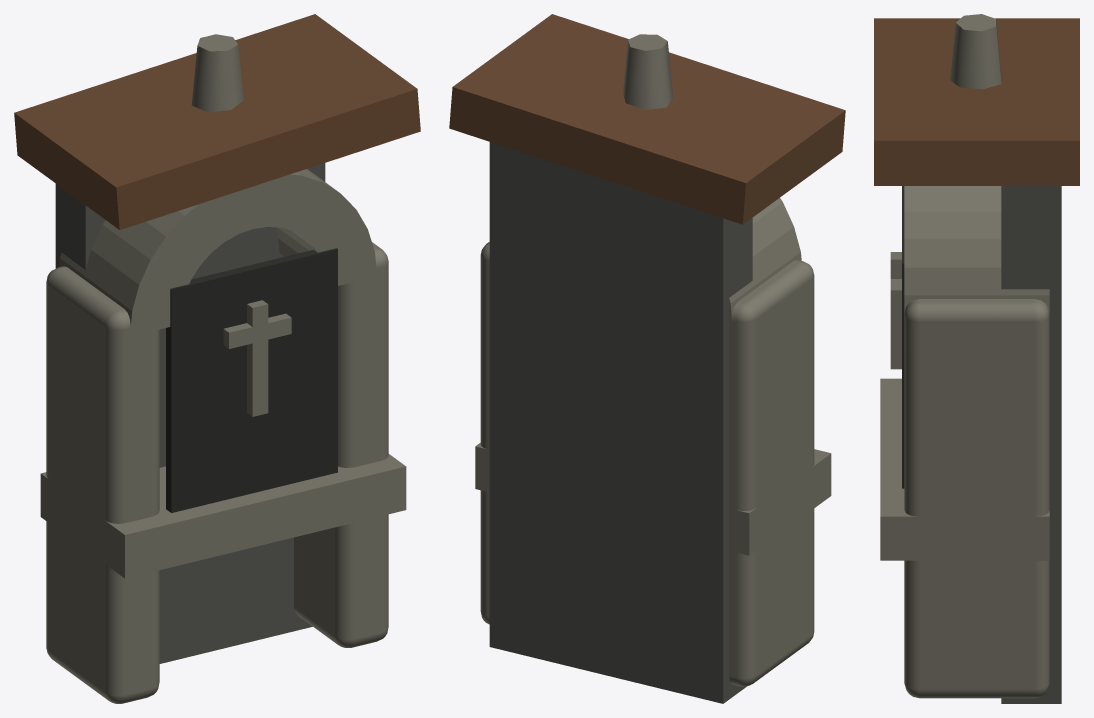
The model's file is sk_roadside_shrine.glb.
3 renders of one model, left to right at view 1: azimuth 30°, elevation 25°; view 2: azimuth 150°, elevation 25°; view 3: azimuth 270°, elevation 25°, orthographic. The views are drawn at different scales.
Visible parts, largest first — view 1: stone, wood; view 2: stone, wood; view 3: stone, wood.
Boxes of the visible parts, x1=… form: stone: x1=40, y1=34, x2=406, y2=703; wood: x1=14, y1=14, x2=420, y2=229; stone: x1=475, y1=34, x2=831, y2=703; wood: x1=449, y1=14, x2=845, y2=224; stone: x1=880, y1=14, x2=1061, y2=703; wood: x1=874, y1=18, x2=1079, y2=185.
Size of the model in its own units: 0.5845 by 1.13 by 0.34.
